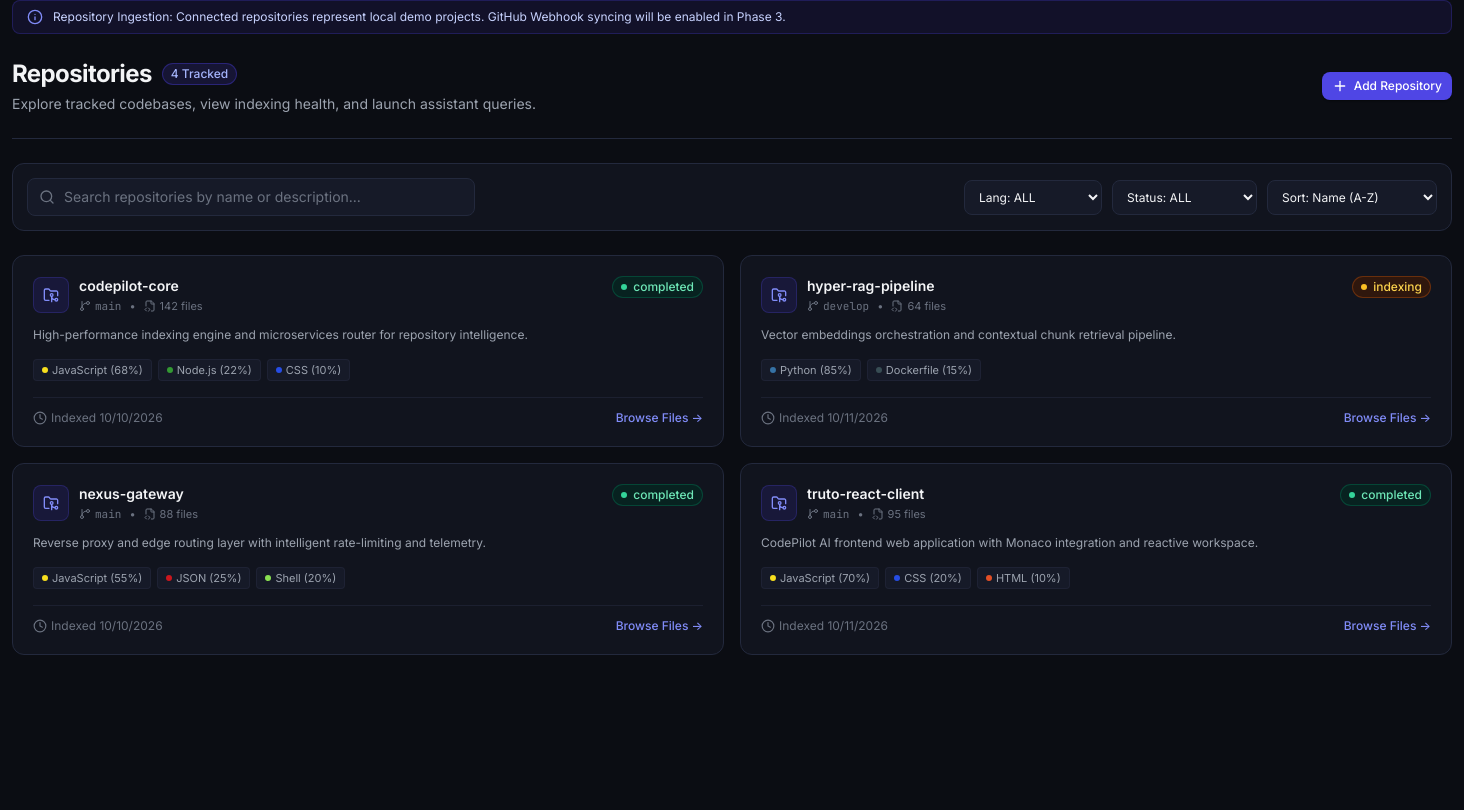
Repository Search & Filtering › filters repositories based on user search query
The image size is (1464, 810).
Check: the heading "codepilot-core" is shown, box [79,277,179,294]
Type "hyper-rag" into the field with placeholder "Search repositories by name or description...". click: (251, 197)
box: [27,178,475,216]
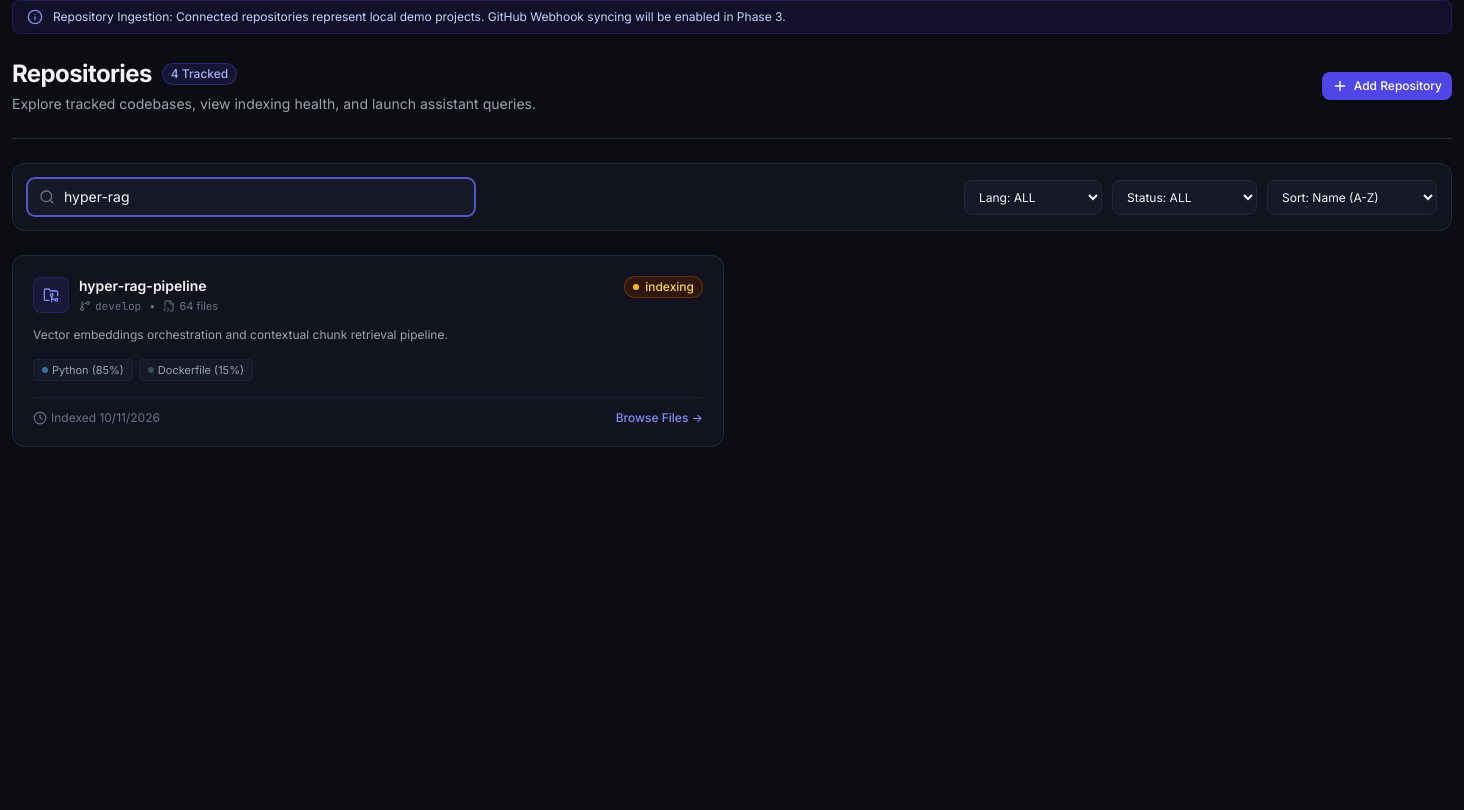
Check: the heading "hyper-rag-pipeline" is shown, box [79,276,218,296]
Check: the heading "codepilot-core" is gone
